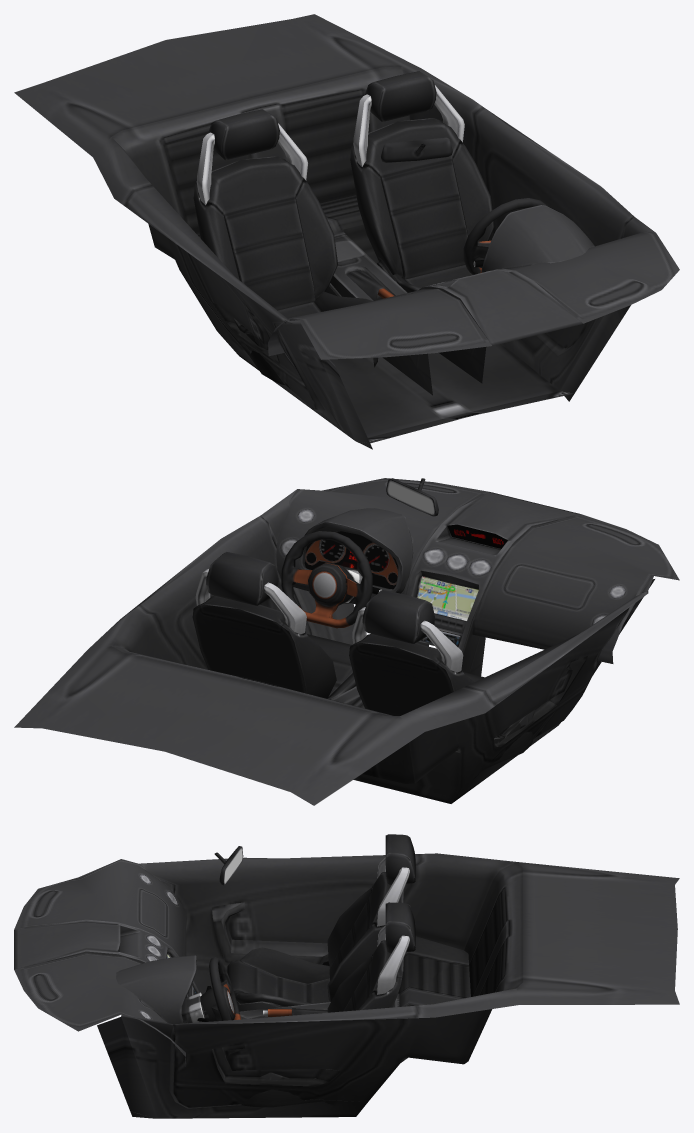
File: Car_05_Interior_C.FBX
3 renders of one model, top to bottom at view 1: azimuth 30°, elevation 25°; view 2: azimuth 150°, elevation 25°; view 3: azimuth 270°, elevation 25°, orthographic. The views are drawn at different scales.
Visible parts, largest first — view 1: Car_05_Interior_C; view 2: Car_05_Interior_C; view 3: Car_05_Interior_C.
Boxes of the visible parts, bbox=[...] form: Car_05_Interior_C: bbox=[14, 14, 679, 449]; Car_05_Interior_C: bbox=[14, 478, 679, 805]; Car_05_Interior_C: bbox=[14, 834, 679, 1118].
Size of the model in its own units: 1.48 by 2.53 by 0.925.
